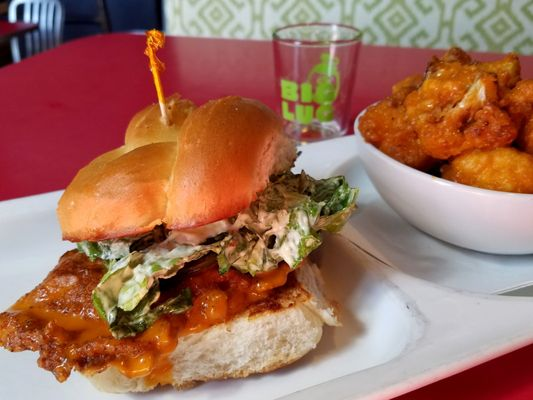soup: (0, 93, 360, 395)
sushi: (353, 47, 533, 257)
